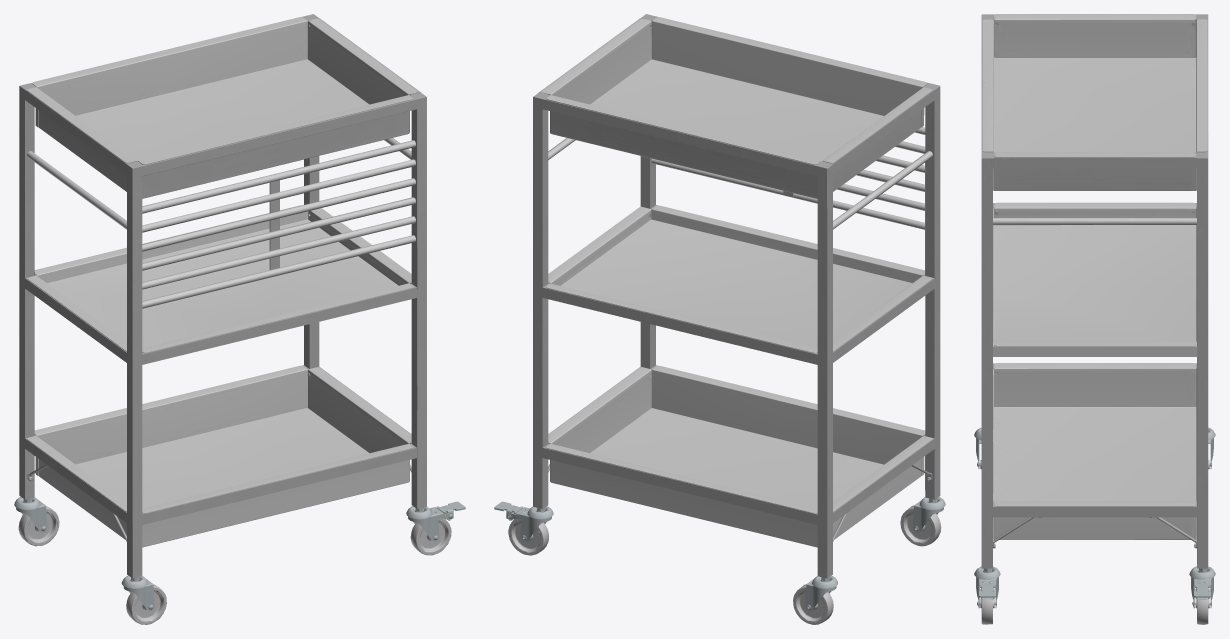
File: 20 - KUNGSFORS Kitchen trolley - stainless steel 60x40 cm.glb
3 renders of one model, left to right at view 1: azimuth 30°, elevation 25°; view 2: azimuth 150°, elevation 25°; view 3: azimuth 270°, elevation 25°, orthographic.
Visible parts, largest first — view 1: model; view 2: model; view 3: model.
Part boxes in pixels (left/top/right/bottom): model: left=14, top=14, right=465, bottom=624; model: left=494, top=14, right=945, bottom=624; model: left=974, top=14, right=1215, bottom=624.
Size of the model in its own units: 0.6903 by 0.8982 by 0.426.
Materials: 1 (1 with a texture image).
